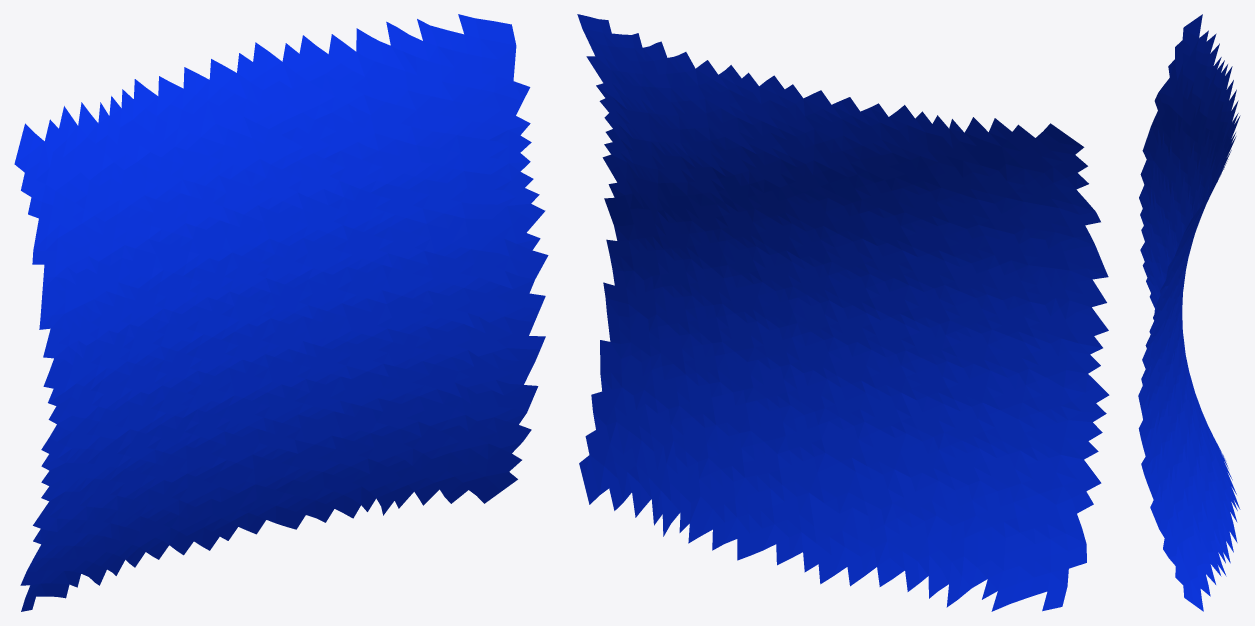
Rendered from Coarse_NegS_Remeshed.obj.
The picture shows the model from 3 angles, left to right: view 1: azimuth 30°, elevation 25°; view 2: azimuth 150°, elevation 25°; view 3: azimuth 270°, elevation 25°; orthographic projection. The views are drawn at different scales.
Size of the model in its own units: 1.83 by 1.72 by 0.3857.
